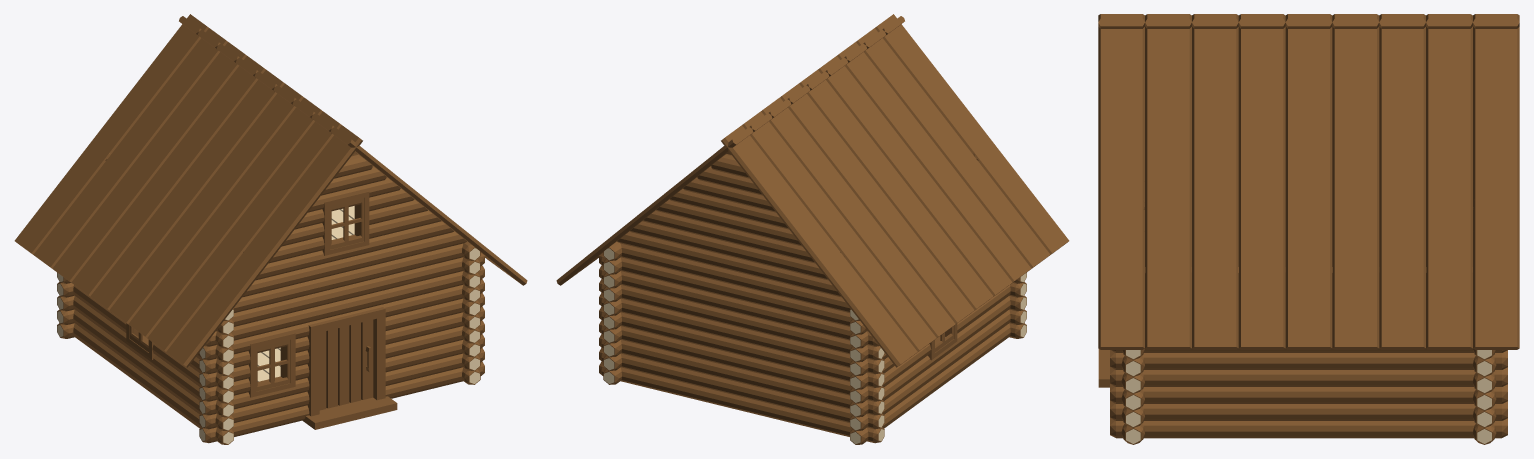
The model's file is Wooden Village.fbx.
3 renders of one model, left to right at view 1: azimuth 30°, elevation 25°; view 2: azimuth 150°, elevation 25°; view 3: azimuth 270°, elevation 25°, orthographic. The views are drawn at different scales.
Parts seen in each view (by area): view 1: Roof.016, Roof.004, Roof, Roof.008, Roof.010, Roof.002, Roof.006, Roof.012, Roof.014, Door, Log.015, Log.017 (+33 smaller); view 2: Roof.014, Roof.010, Roof, Roof.002, Roof.004, Roof.008, Roof.012, Roof.006, Roof.016, Log.040, Log.042, Log.041 (+21 smaller); view 3: Roof.001, Roof.003, Roof.009, Roof.005, Roof.007, Roof.011, Roof.013, Roof.015, Roof.017, Log.001, Log.002, Log.010 (+13 smaller).
Part boxes in pixels (x1,y1,x2,y2): Roof.016: (166,125,362,367); Roof.004: (128,97,322,339); Roof: (90,69,284,310); Roof.008: (71,56,265,297); Roof.010: (52,42,246,282); Roof.002: (109,83,303,324); Roof.006: (147,111,341,351); Roof.012: (33,28,227,270); Roof.014: (14,14,208,255); Door: (319,319,373,410); Log.015: (204,265,484,346); Log.017: (216,253,484,331); Roof.014: (721,125,917,367); Roof.010: (761,97,955,339); Roof: (799,69,993,310); Roof.002: (818,56,1012,297); Roof.004: (837,42,1031,282); Roof.008: (780,83,974,324); Roof.012: (742,111,936,351); Roof.006: (856,28,1050,270); Roof.016: (875,14,1069,255); Log.040: (599,361,884,443); Log.042: (599,334,884,415); Log.041: (599,347,884,429); Roof.001: (1285,14,1332,349); Roof.003: (1238,14,1285,349); Roof.009: (1332,14,1379,349); Roof.005: (1192,14,1238,349); Roof.007: (1145,14,1191,349); Roof.011: (1379,14,1425,349); Roof.013: (1426,14,1472,349); Roof.015: (1473,14,1519,349); Roof.017: (1098,14,1144,349); Log.001: (1110,418,1507,438); Log.002: (1110,401,1507,420); Log.010: (1110,350,1507,369).
Size of the model in its own units: 4192 by 3269 by 3600.
